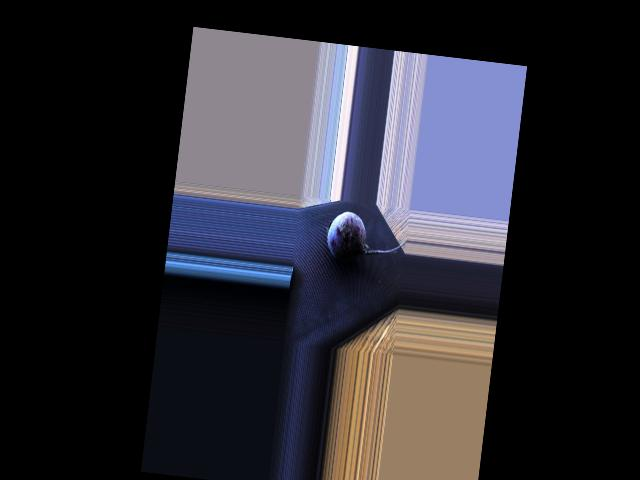beet: (324, 210, 408, 269)
